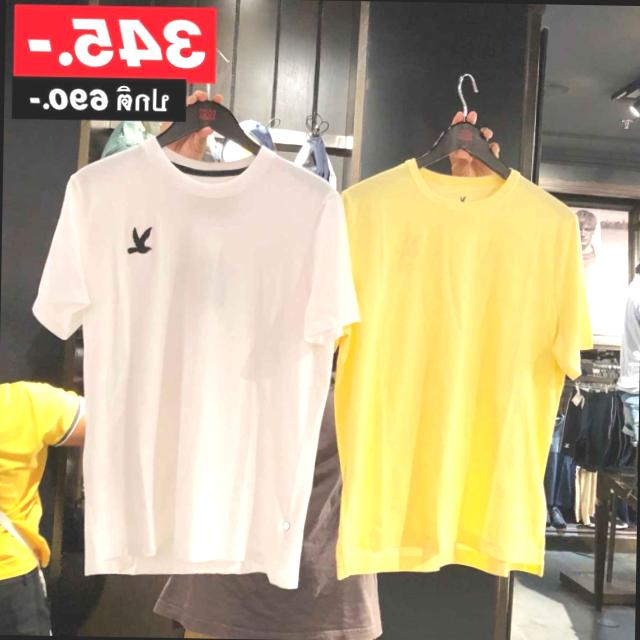Tshirt: (54, 126, 356, 584), (324, 154, 590, 578)
